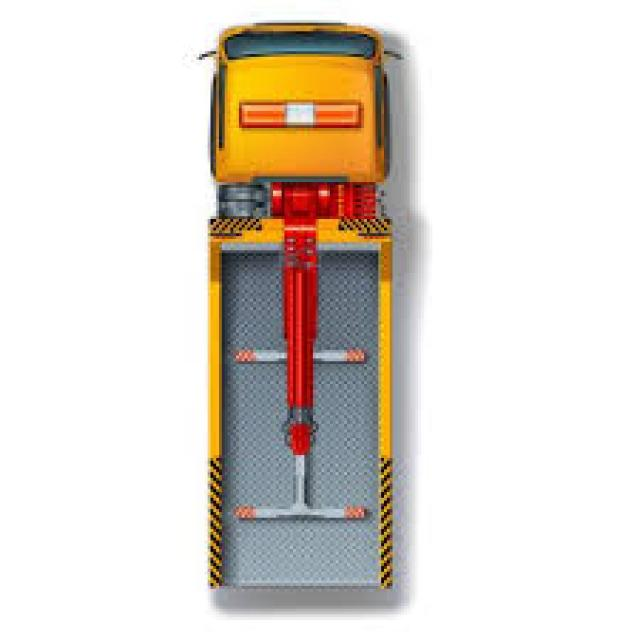truck: (200, 17, 401, 600)
